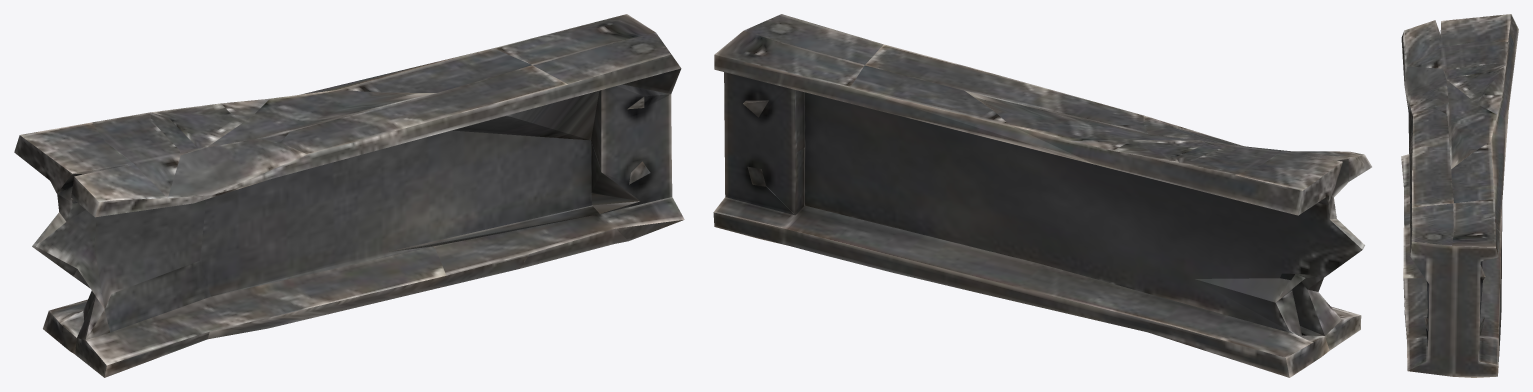
The model's file is shared_rubble_kit__girder_short_broken_lod2.glb.
3 views of the same model, side by side, from view 1: azimuth 30°, elevation 25°; view 2: azimuth 150°, elevation 25°; view 3: azimuth 270°, elevation 25° (orthographic). The views are drawn at different scales.
Visible parts, largest first — view 1: mesh_node; view 2: mesh_node; view 3: mesh_node.
Part boxes in pixels (bbox=[...]): mesh_node: bbox=[14, 14, 684, 377]; mesh_node: bbox=[713, 14, 1371, 377]; mesh_node: bbox=[1401, 14, 1518, 377].
Size of the model in its own units: 3.05 by 0.9113 by 0.6595.
Materials: 1 (1 with a texture image).
